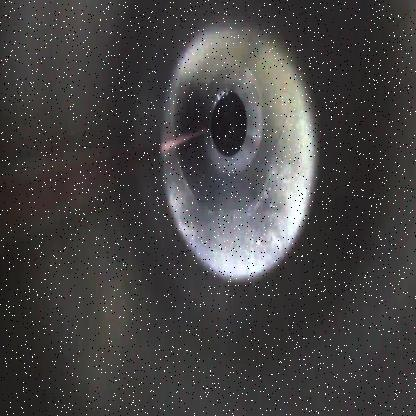NoCrack: (160, 22, 316, 284)
